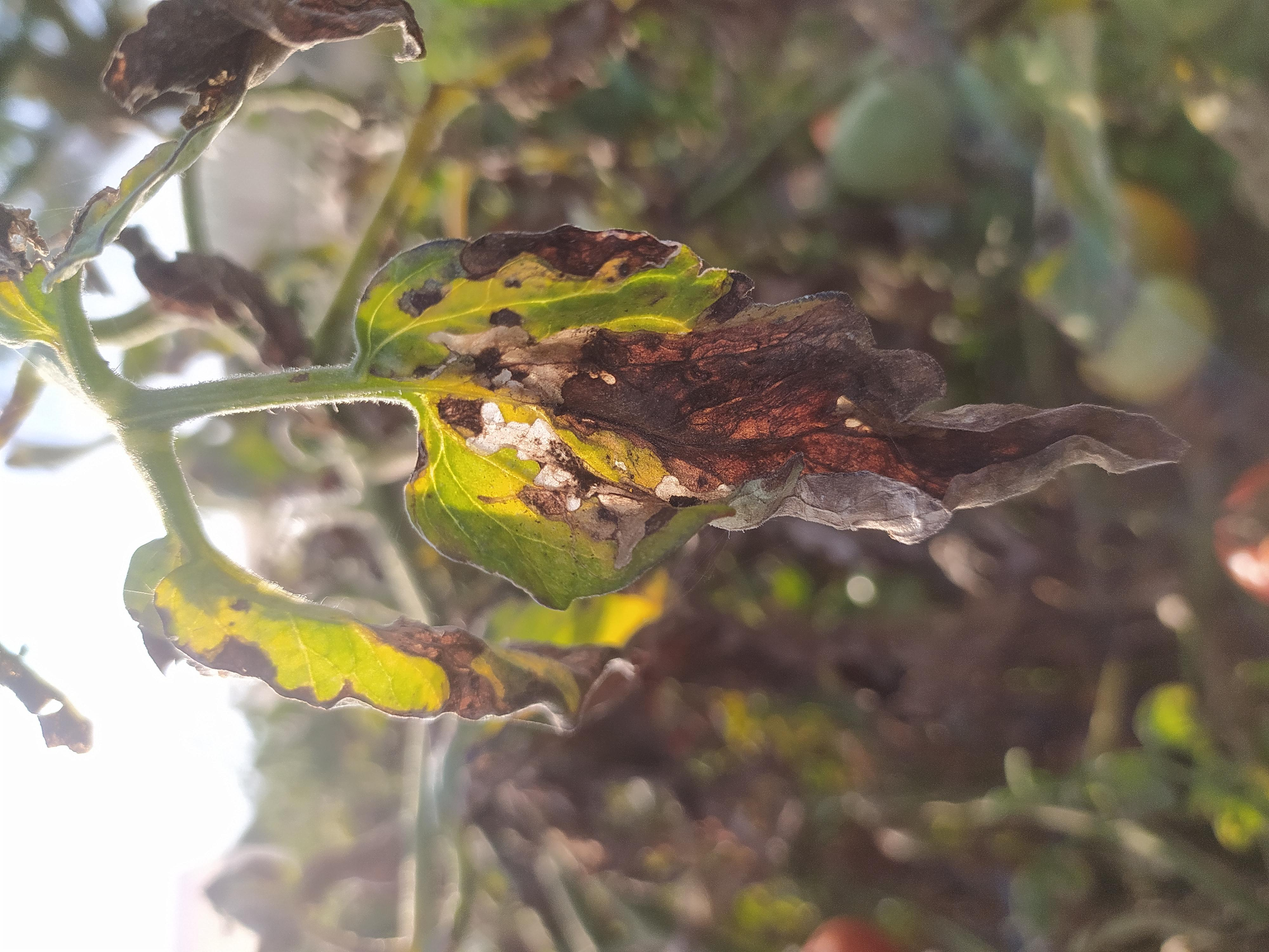Early Blight: (450, 263, 982, 892), (292, 90, 550, 478)
